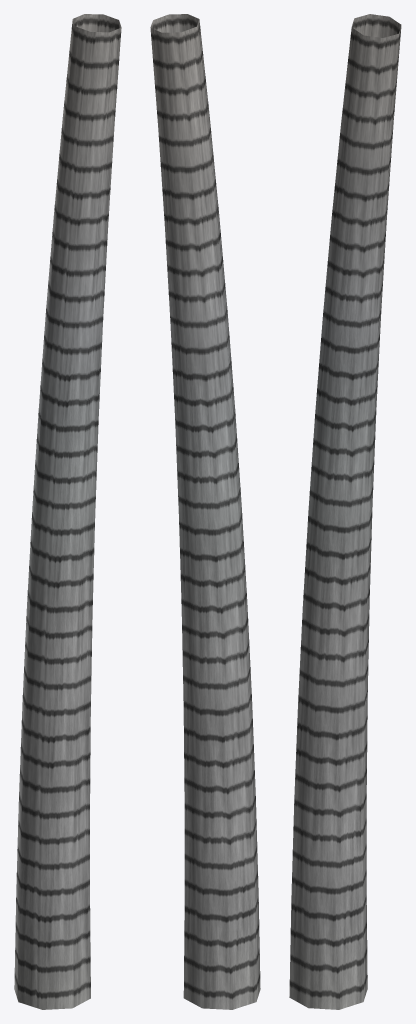
File: palm_short_bark_l0.gltf
3 renders of one model, left to right at view 1: azimuth 30°, elevation 25°; view 2: azimuth 150°, elevation 25°; view 3: azimuth 330°, elevation 25°, orthographic.
Parts seen in each view (by area): view 1: palm_short_bark_l0; view 2: palm_short_bark_l0; view 3: palm_short_bark_l0.
Boxes of the visible parts, <box> form: palm_short_bark_l0: <box>14,14,121,1009</box>; palm_short_bark_l0: <box>150,14,260,1009</box>; palm_short_bark_l0: <box>289,14,401,1009</box>.
Bounding box in the file's own units: 0.501 × 4.51 × 0.3375.
Materials: 1 (1 with a texture image).
